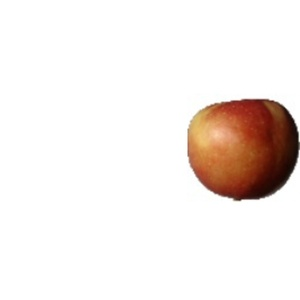maçã braeburn: (184, 95, 299, 203)
